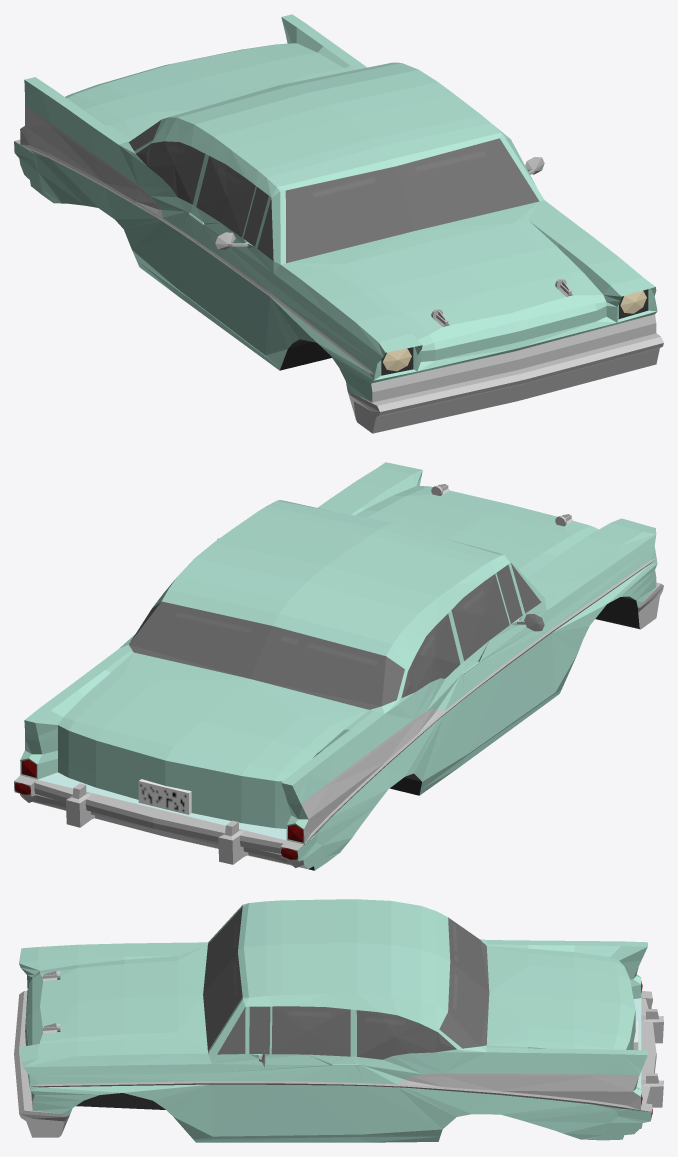
Rendered from chevy bel air.fbx.
The picture shows the model from 3 angles, top to bottom: view 1: azimuth 30°, elevation 25°; view 2: azimuth 150°, elevation 25°; view 3: azimuth 270°, elevation 25°; orthographic projection. The views are drawn at different scales.
Visible parts, largest first — view 1: chevy bel air; view 2: chevy bel air; view 3: chevy bel air.
Part boxes in pixels (<box>): chevy bel air: <box>14,14,663,433</box>; chevy bel air: <box>14,462,663,870</box>; chevy bel air: <box>14,899,663,1142</box>.
Bounding box in the file's own units: 3.29 × 1.55 × 6.51.
